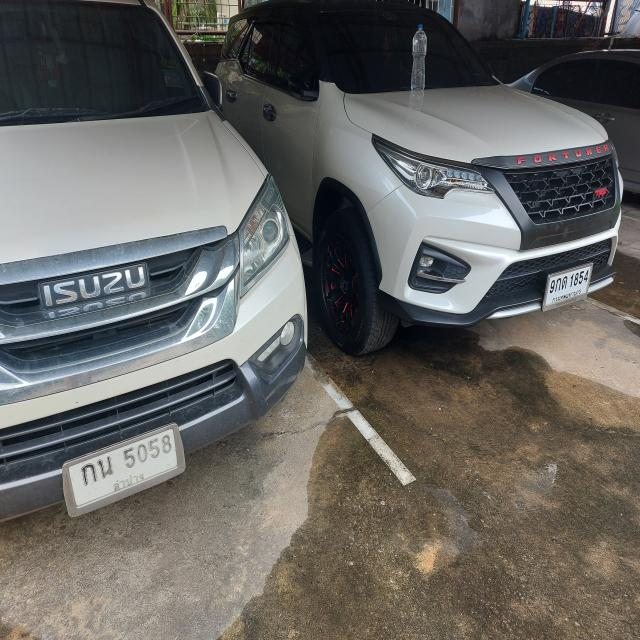license_plate: (61, 421, 188, 521), (541, 259, 596, 316)
